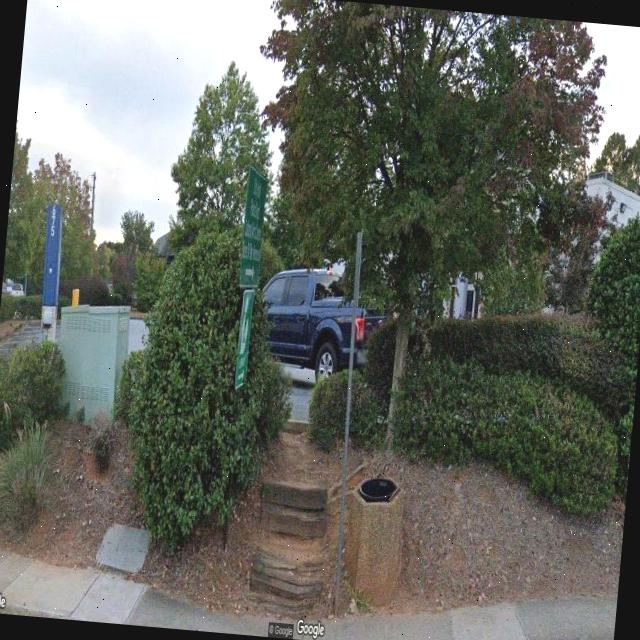trash_can: (342, 472, 406, 608)
